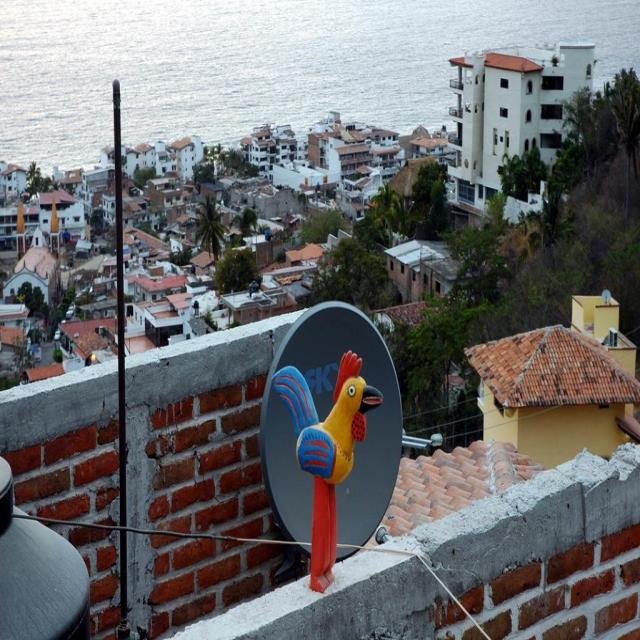Chicken: (272, 347, 380, 486)
